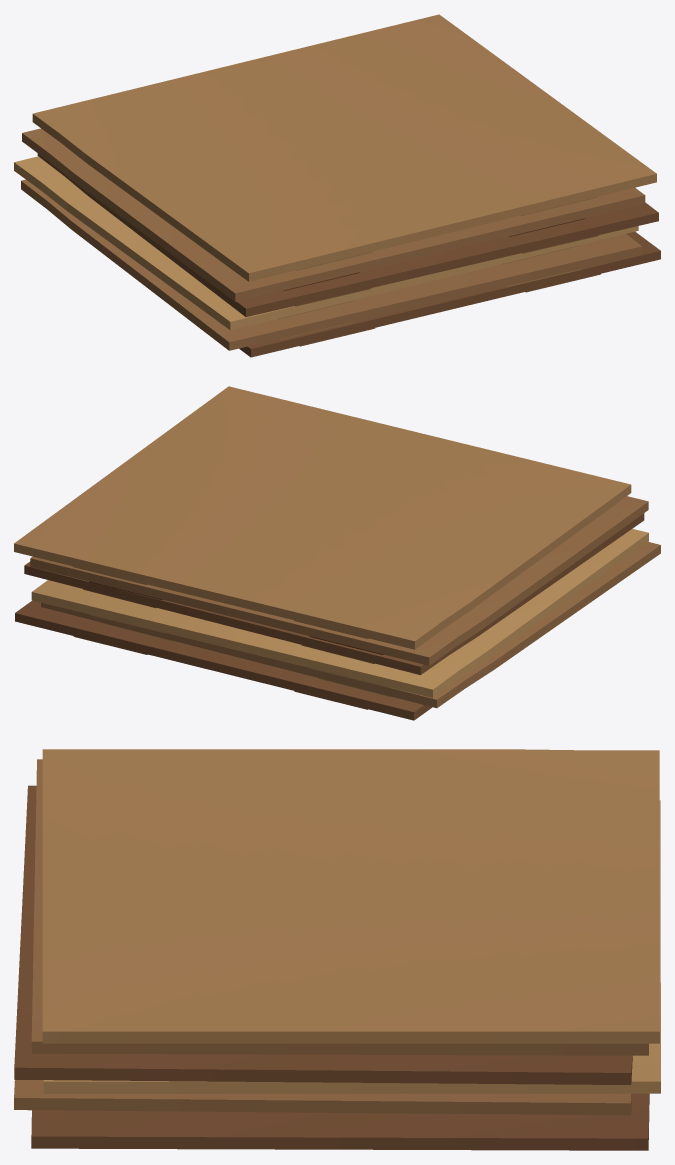
File: Multiple Med Light Crate Lids.fbx
3 renders of one model, top to bottom at view 1: azimuth 30°, elevation 25°; view 2: azimuth 150°, elevation 25°; view 3: azimuth 270°, elevation 25°, orthographic. The views are drawn at different scales.
Parts seen in each view (by area): view 1: Med Multiple Light Crate Lids; view 2: Med Multiple Light Crate Lids; view 3: Med Multiple Light Crate Lids.
Boxes of the visible parts, x1,y1,x2,y2 form: Med Multiple Light Crate Lids: (14,14,660,357); Med Multiple Light Crate Lids: (14,386,660,720); Med Multiple Light Crate Lids: (14,749,660,1150).
Size of the model in its own units: 43.18 by 201 by 222.
1 material, 1 textured.
